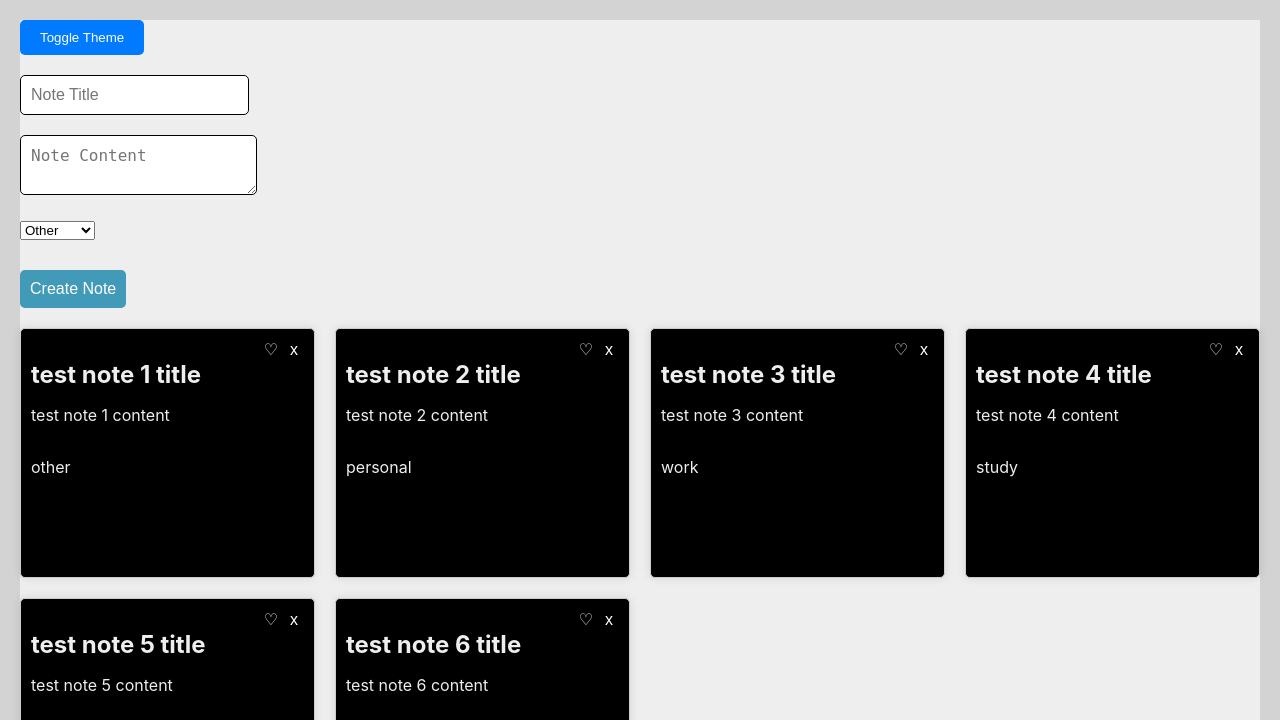
Test: Create StickyNote › Testing Delete
Click the button with test id "delete-note-1": (294, 350) [284, 339, 304, 360]
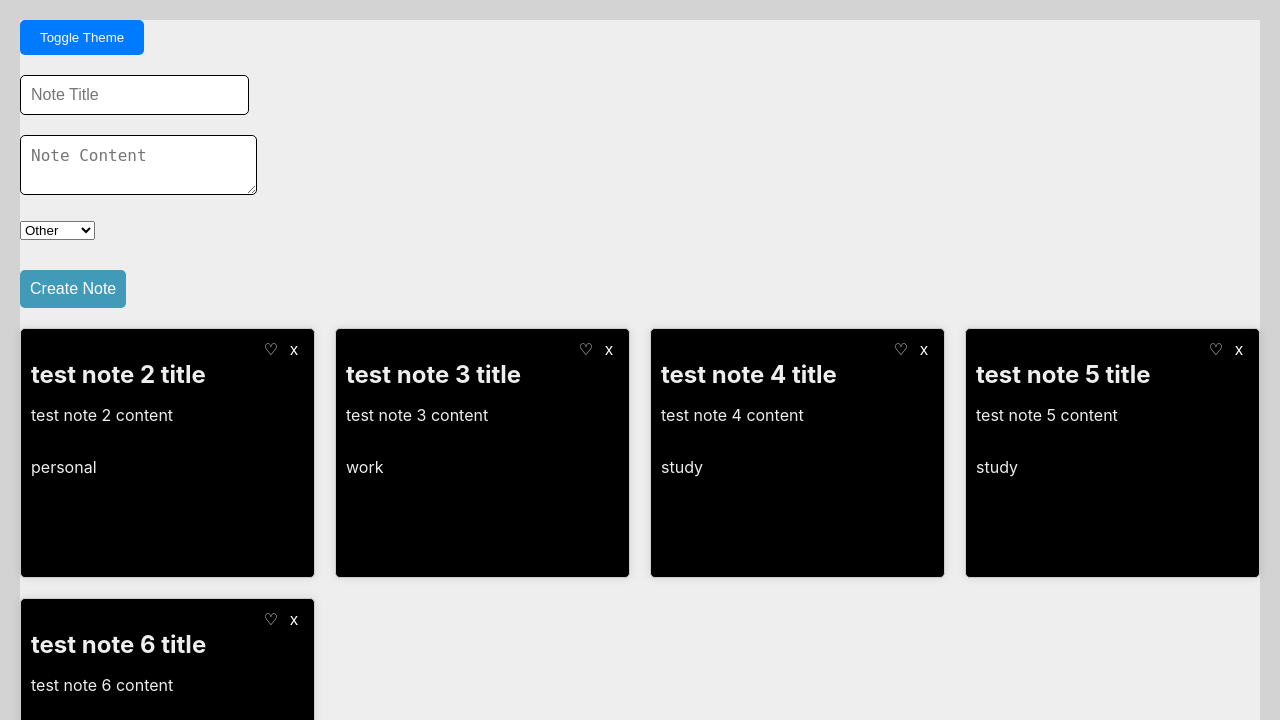
Expected: the heading "test note 1 title" is gone
